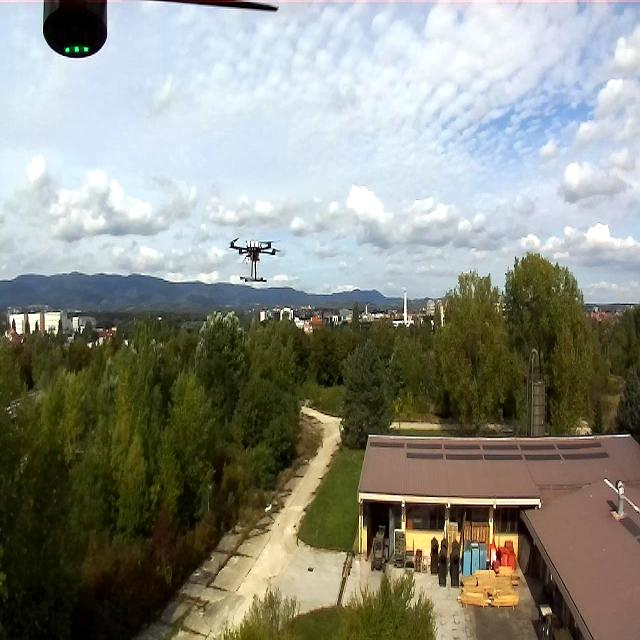drone: (229, 227, 280, 286)
